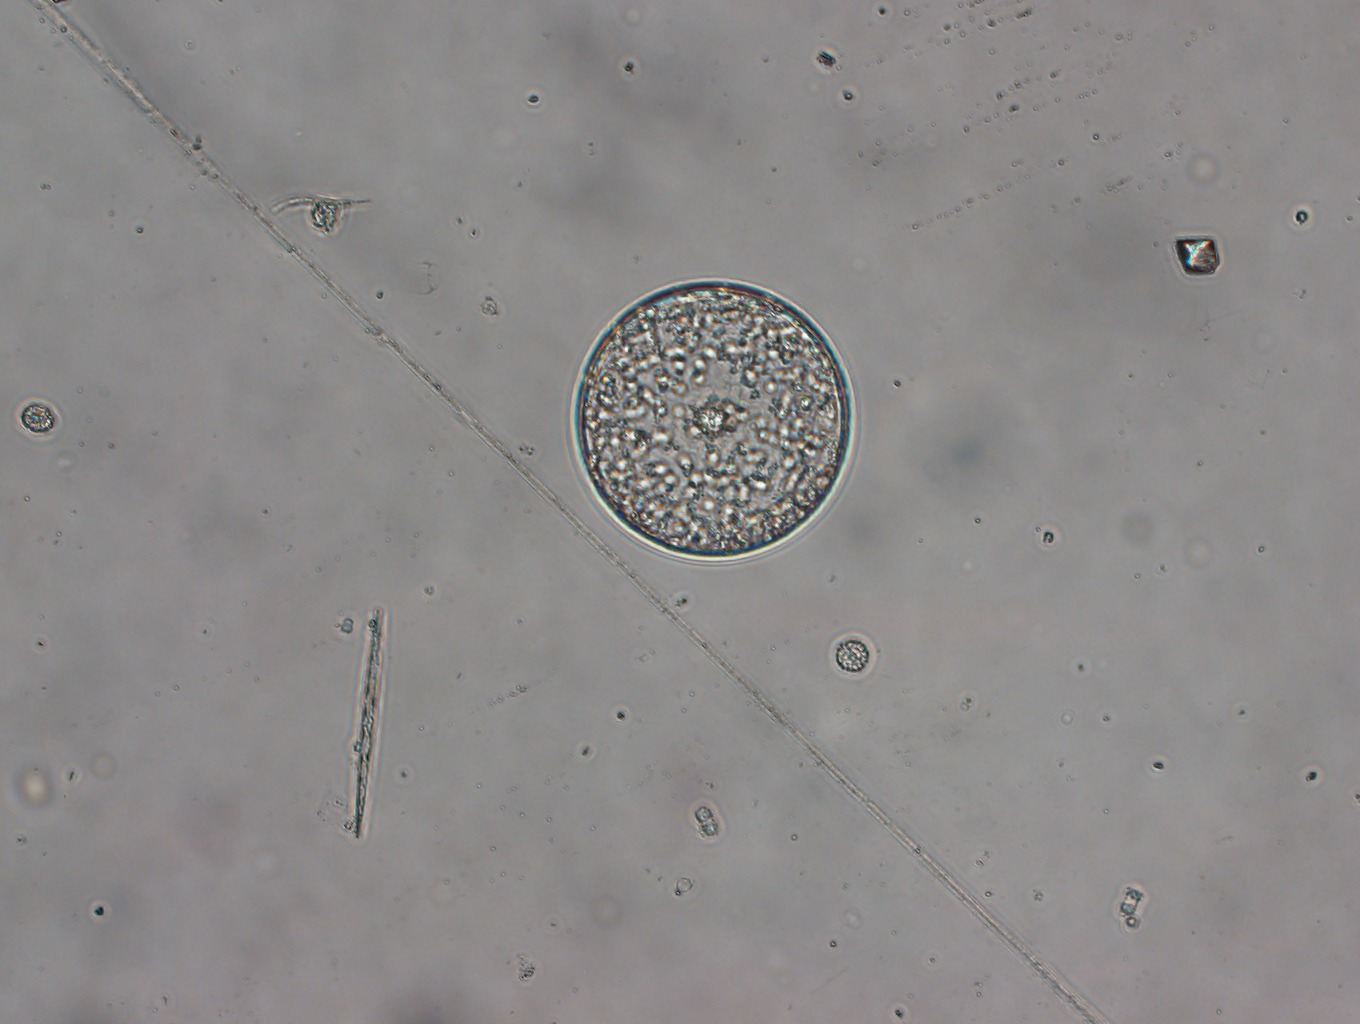coscinodiscus: (569, 279, 850, 561)
